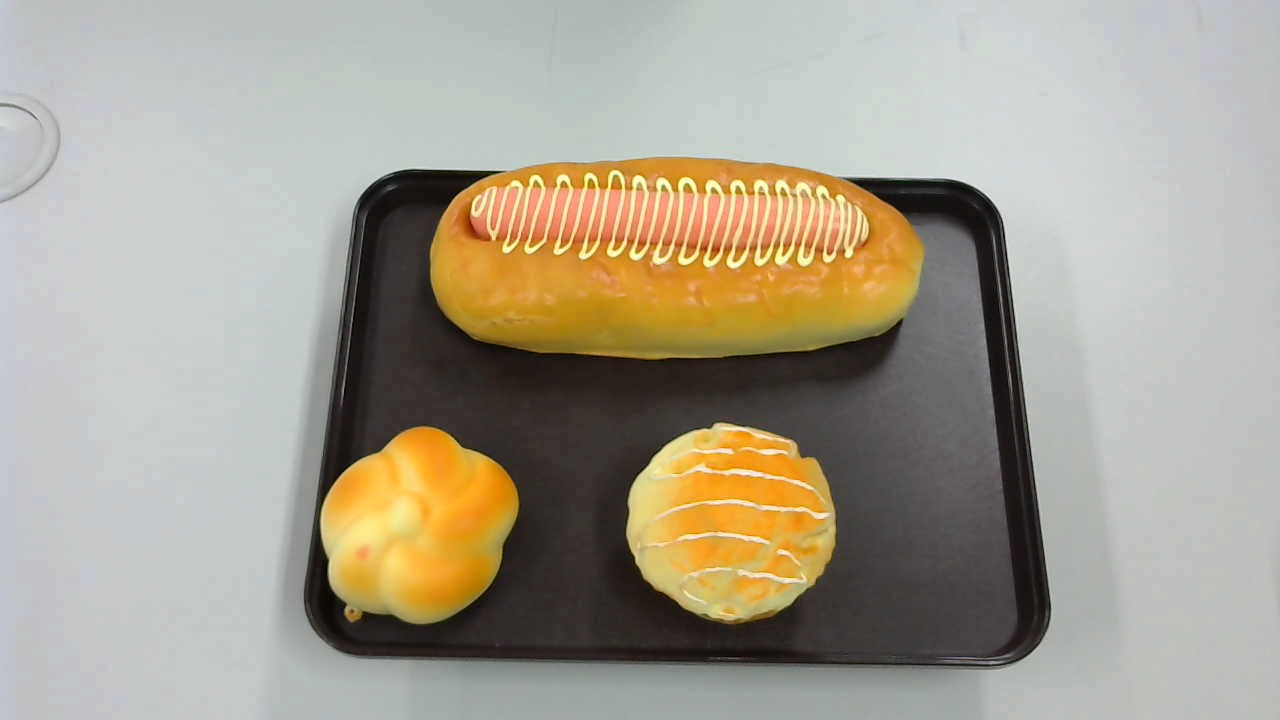croissant: (320, 427, 518, 622)
cupcake: (625, 424, 835, 625)
hot dog: (425, 154, 927, 365)
